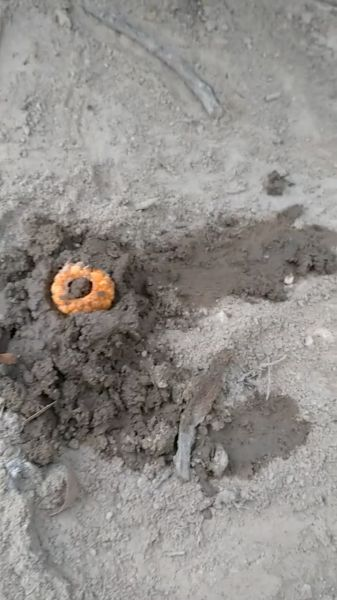eggs: (48, 258, 118, 327)
